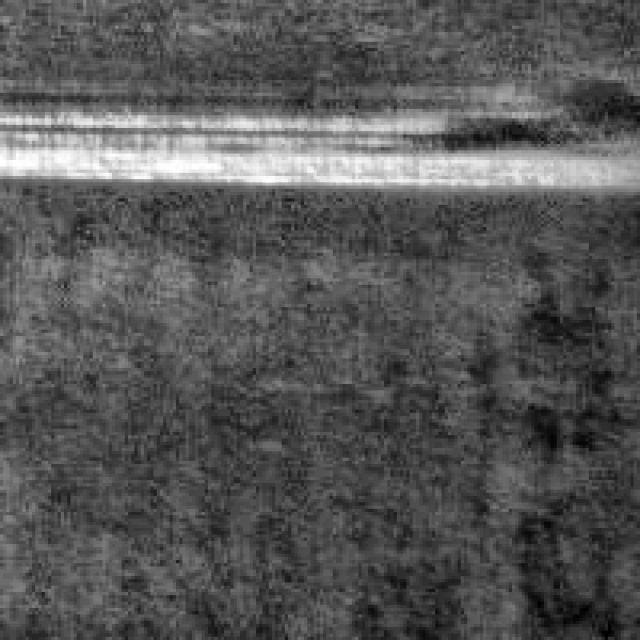Inclusion: (0, 83, 627, 189)
